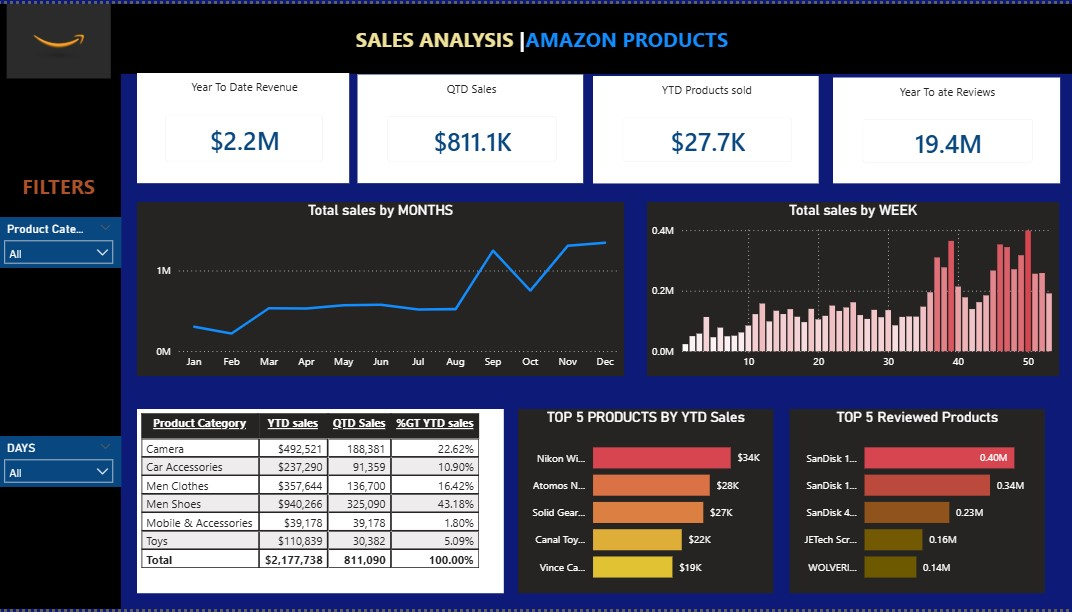

This screenshot's page, from the dashboard's own definition file:
{"tool":"powerbi","page":{"name":"Page 1","canvas":[1280,720],"ordinal":0},"visuals":[{"type":"shape","box":[0,0,1281.3,83.2],"z":0},{"type":"group","id":"g1","title":"Group 1","box":[168.4,82.6,252.6,131.2],"z":0,"group":"g5"},{"type":"group","id":"g2","title":"Group 1","box":[430.7,84.2,268.8,129.5],"z":0,"group":"g6"},{"type":"group","id":"g3","title":"Group 1","box":[710.8,85.8,268.8,127.9],"z":0,"group":"g7"},{"type":"group","id":"g4","title":"Group 1","box":[995.8,87.4,270.4,126.3],"z":0,"group":"g8"},{"type":"shape","box":[0,82.6,149,638],"z":1000},{"type":"cardVisual","fields":{"Data":["ANALYSIS.YTD sales"]},"box":[185.1,115.4,222.2,90.2],"z":1000,"group":"g5"},{"type":"cardVisual","fields":{"Data":["ANALYSIS.QTD Sales"]},"box":[448.5,116.6,236.4,89.1],"z":1000,"group":"g6"},{"type":"cardVisual","fields":{"Data":["ANALYSIS.YTD Product sold"]},"box":[728.6,117.8,236.4,87.9],"z":1000,"group":"g7"},{"type":"cardVisual","fields":{"Data":["ANALYSIS.YTD reviews"]},"box":[1013.7,119,237.8,86.8],"z":1000,"group":"g8"},{"type":"textbox","box":[389.3,18.9,521.6,43.5],"z":2000},{"type":"group","id":"g5","title":"Group 2","box":[168.4,82.6,252.6,131.2],"z":3000},{"type":"shape","box":[168.4,82.6,252.6,131.2],"z":3000,"group":"g1"},{"type":"shape","box":[430.7,84.2,268.8,129.5],"z":3000,"group":"g2"},{"type":"shape","box":[710.8,85.8,268.8,127.9],"z":3000,"group":"g3"},{"type":"shape","box":[995.8,87.4,270.4,126.3],"z":3000,"group":"g4"},{"type":"group","id":"g6","title":"Group 2","box":[430.7,84.2,268.8,129.5],"z":4000},{"type":"textbox","box":[203.5,84.2,184.8,36.1],"z":4002,"group":"g1"},{"type":"textbox","box":[468,85.8,196.6,35.6],"z":4002,"group":"g2"},{"type":"textbox","box":[748.1,87.4,196.6,35.2],"z":4002,"group":"g3"},{"type":"textbox","box":[1033.4,89,197.8,34.7],"z":4002,"group":"g4"},{"type":"group","id":"g7","title":"Group 2","box":[710.8,85.8,268.8,127.9],"z":5000},{"type":"group","id":"g8","title":"Group 2","box":[995.8,87.4,270.4,126.3],"z":6000},{"type":"columnChart","title":"Total sales by WEEK","fields":{"Y":["ANALYSIS.Total sales"],"Category":["DATE TABLE.WEEKNUMB"]},"box":[775.6,236.4,490.6,207.3],"z":7000},{"type":"lineChart","fields":{"Category":["DATE TABLE.MONTHS"],"Y":["ANALYSIS.Total sales"]},"box":[168.4,236.4,579.7,207.3],"z":8000},{"type":"pivotTable","fields":{"Rows":["Amazon_Data.Product Category"],"Values":["ANALYSIS.YTD sales","ANALYSIS.QTD Sales","Divide(ANALYSIS.YTD sales, ScopedEval(ANALYSIS.YTD sales, []))"]},"box":[168.2,481.9,436.5,219.2],"z":9000},{"type":"clusteredBarChart","title":"TOP 5 PRODUCTS BY YTD Sales","fields":{"Category":["Amazon_Data.Product Description"],"Y":["ANALYSIS.YTD sales"]},"box":[621.7,481.9,304.3,219.2],"z":10000},{"type":"clusteredBarChart","title":"TOP 5 Reviewed Products","fields":{"Category":["Amazon_Data.Product Description"],"Y":["ANALYSIS.YTD reviews"]},"box":[944.9,481.9,304.3,219.2],"z":11000},{"type":"slicer","fields":{"Values":["Amazon_Data.Product Category"]},"box":[0,253.2,149.3,60.5],"z":12000},{"type":"slicer","fields":{"Values":["DATE TABLE.DAYS"]},"box":[0,514,149.3,60.5],"z":13000},{"type":"image","box":[0,0,149.3,88.8],"z":14000},{"type":"textbox","box":[0,194.6,149.3,43.5],"z":14001}]}

Visuals, with their boxes in screenshot pixels (x1, y1, x2, y2), scaled from the page's 1280x720 canvas onto the 1072x612 screenshot:
shape: [left=0, top=0, right=1071, bottom=71]
"Group 1" group: [left=141, top=70, right=353, bottom=182]
"Group 1" group: [left=361, top=72, right=586, bottom=182]
"Group 1" group: [left=595, top=73, right=820, bottom=182]
"Group 1" group: [left=834, top=74, right=1060, bottom=182]
shape: [left=0, top=70, right=125, bottom=611]
cardVisual - ANALYSIS.YTD sales: [left=155, top=98, right=341, bottom=175]
cardVisual - ANALYSIS.QTD Sales: [left=376, top=99, right=574, bottom=175]
cardVisual - ANALYSIS.YTD Product sold: [left=610, top=100, right=808, bottom=175]
cardVisual - ANALYSIS.YTD reviews: [left=849, top=101, right=1048, bottom=175]
textbox: [left=326, top=16, right=763, bottom=53]
"Group 2" group: [left=141, top=70, right=353, bottom=182]
shape: [left=141, top=70, right=353, bottom=182]
shape: [left=361, top=72, right=586, bottom=182]
shape: [left=595, top=73, right=820, bottom=182]
shape: [left=834, top=74, right=1060, bottom=182]
"Group 2" group: [left=361, top=72, right=586, bottom=182]
textbox: [left=170, top=72, right=325, bottom=102]
textbox: [left=392, top=73, right=557, bottom=103]
textbox: [left=627, top=74, right=791, bottom=104]
textbox: [left=865, top=76, right=1031, bottom=105]
"Group 2" group: [left=595, top=73, right=820, bottom=182]
"Group 2" group: [left=834, top=74, right=1060, bottom=182]
"Total sales by WEEK" columnChart: [left=650, top=201, right=1060, bottom=377]
lineChart - DATE TABLE.MONTHS x ANALYSIS.Total sales: [left=141, top=201, right=627, bottom=377]
pivotTable - Amazon_Data.Product Category x ANALYSIS.YTD sales: [left=141, top=410, right=506, bottom=596]
"TOP 5 PRODUCTS BY YTD Sales" clusteredBarChart: [left=521, top=410, right=776, bottom=596]
"TOP 5 Reviewed Products" clusteredBarChart: [left=791, top=410, right=1046, bottom=596]
slicer - Amazon_Data.Product Category: [left=0, top=215, right=125, bottom=267]
slicer - DATE TABLE.DAYS: [left=0, top=437, right=125, bottom=488]
image: [left=0, top=0, right=125, bottom=75]
textbox: [left=0, top=165, right=125, bottom=202]
